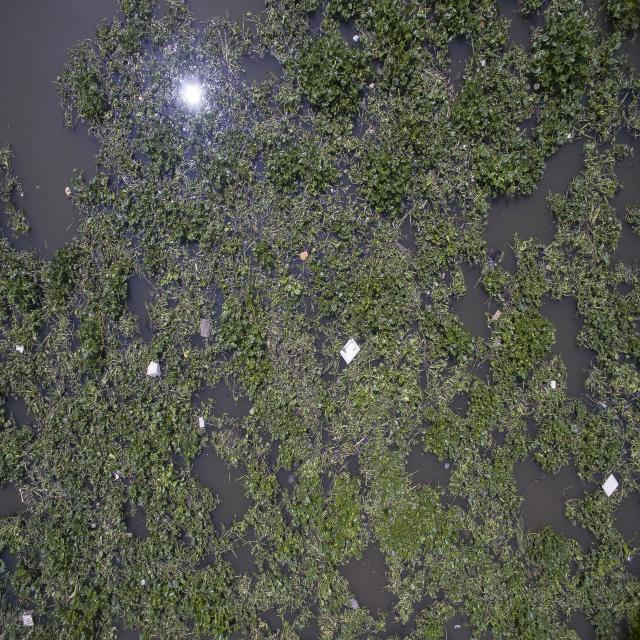debris: (339, 337, 361, 366), (602, 472, 618, 500), (198, 314, 213, 342), (19, 608, 37, 630), (146, 361, 162, 378), (13, 341, 28, 354), (490, 311, 505, 324), (624, 548, 632, 572), (548, 377, 558, 393), (298, 250, 310, 261), (197, 414, 206, 428), (476, 58, 488, 68), (138, 578, 148, 588), (112, 471, 121, 481), (350, 34, 360, 43), (566, 130, 572, 141)
plastic: (62, 183, 74, 201), (359, 433, 372, 447), (593, 397, 607, 410), (452, 620, 463, 632), (487, 257, 495, 273), (442, 457, 451, 471), (16, 186, 26, 198), (438, 271, 447, 280), (424, 286, 430, 297), (194, 262, 199, 272)
